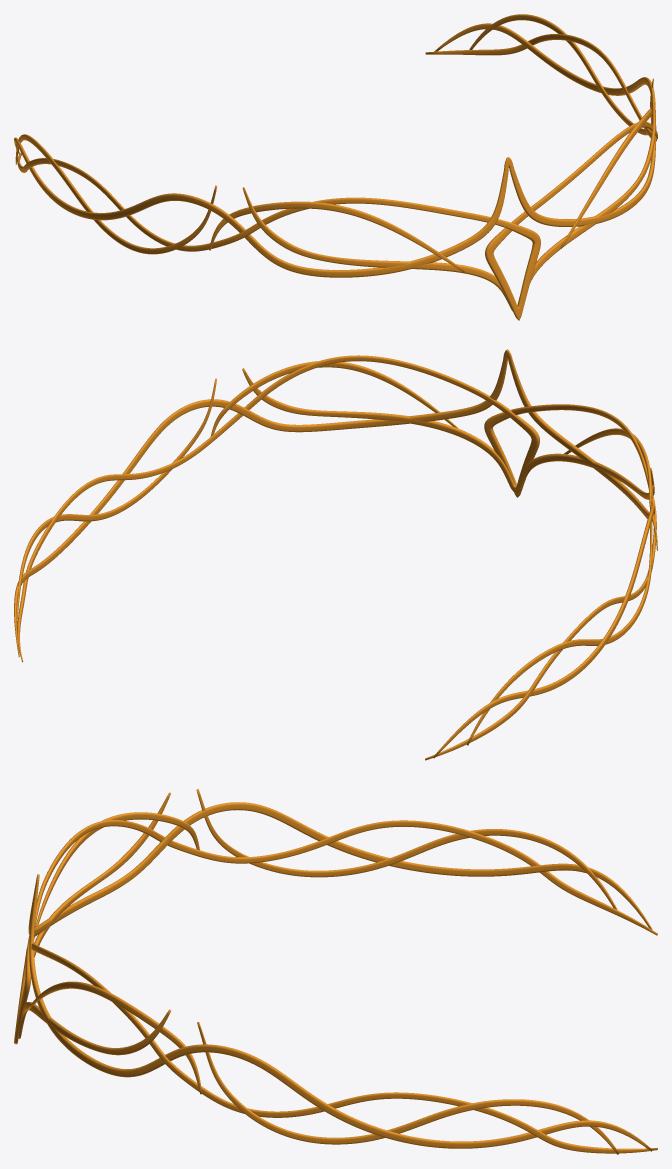
The model's file is diadem.glb.
3 renders of one model, top to bottom at view 1: azimuth 30°, elevation 25°; view 2: azimuth 150°, elevation 25°; view 3: azimuth 270°, elevation 25°, orthographic. The views are drawn at different scales.
Parts seen in each view (by area): view 1: diadema.; view 2: diadema.; view 3: diadema..
Boxes of the visible parts, x1,y1,x2,y2 form: diadema.: [14, 14, 657, 320]; diadema.: [14, 349, 657, 760]; diadema.: [14, 789, 657, 1154].
Size of the model in its own units: 0.1588 by 0.0458 by 0.157.
